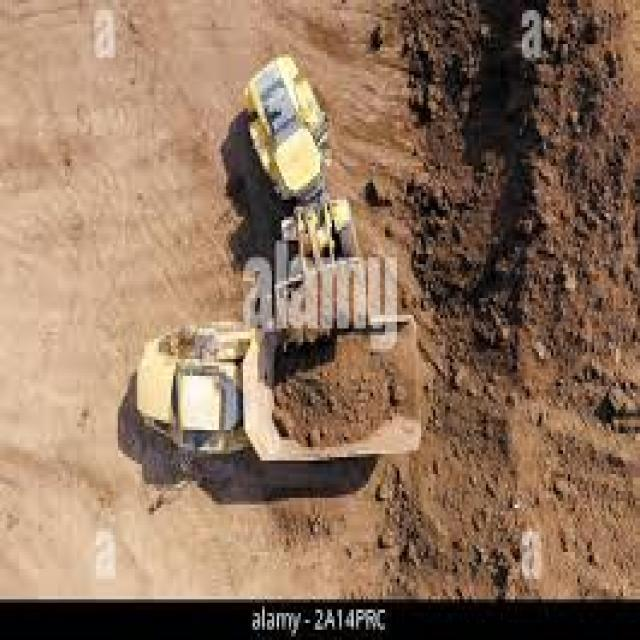truck: (130, 303, 417, 460)
